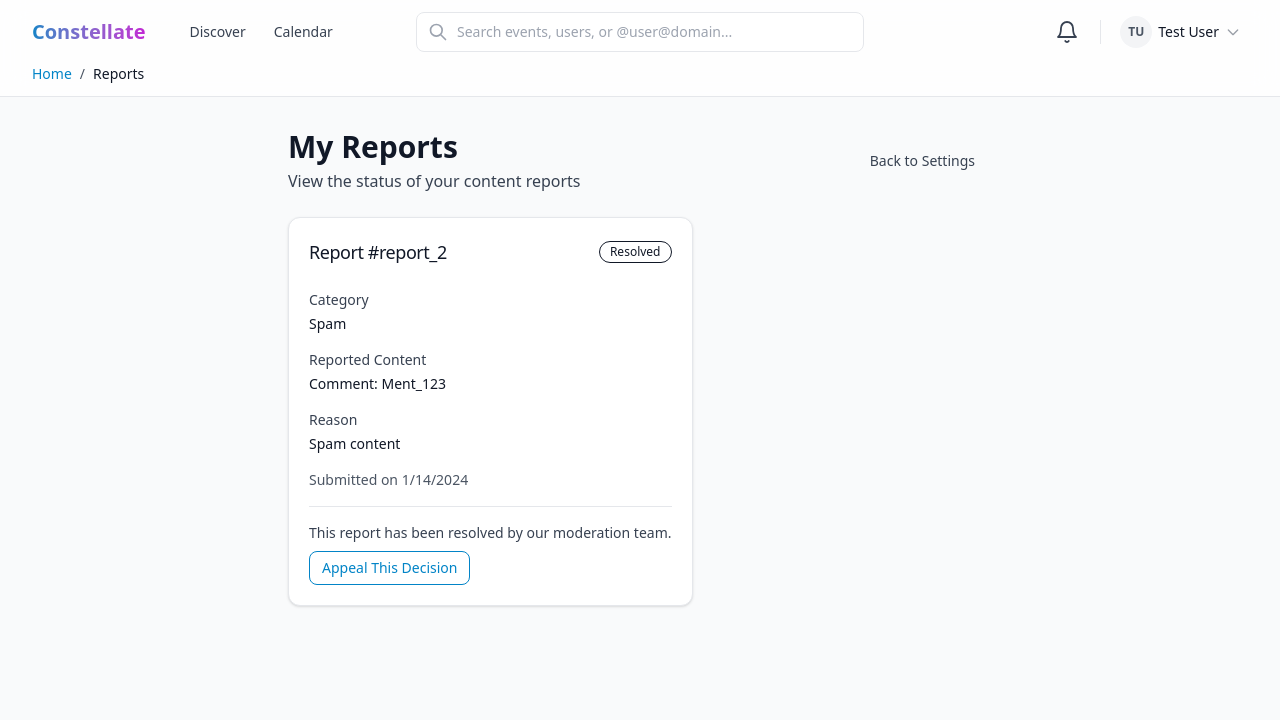
Test: ReportsPage › should open appeal modal when appeal button is clicked
Click the button "Appeal This Decision": (390, 568) [309,551,470,585]
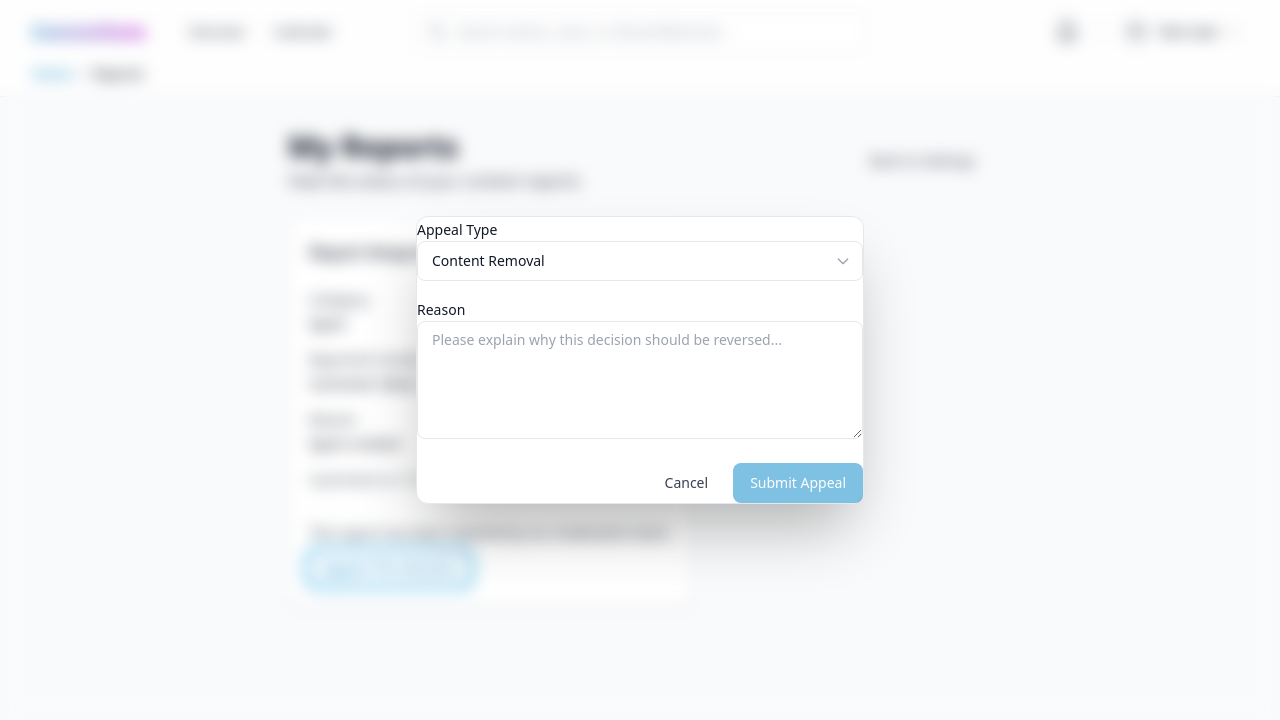
Expected: the text "Submit Appeal" is shown, [750,473,846,493]
